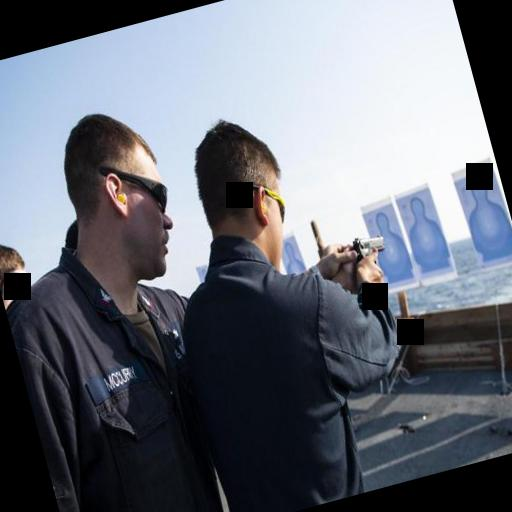Handgun: (348, 226, 390, 268)
